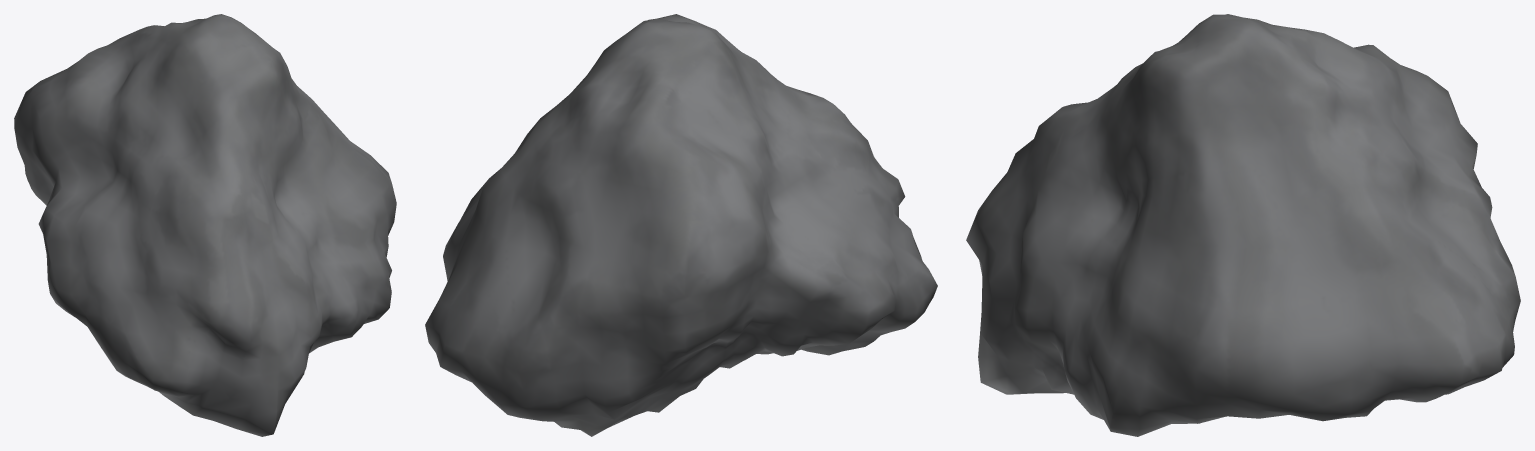
Rendered from 03_Rock1_01.fbx.
3 views of the same model, side by side, from view 1: azimuth 30°, elevation 25°; view 2: azimuth 150°, elevation 25°; view 3: azimuth 270°, elevation 25° (orthographic). The views are drawn at different scales.
Visible parts, largest first — view 1: Cube; view 2: Cube; view 3: Cube.
Part boxes in pixels (bbox=[...]): Cube: bbox=[14, 14, 396, 436]; Cube: bbox=[425, 14, 937, 436]; Cube: bbox=[966, 14, 1520, 436].
Bounding box in the file's own units: 37.08 × 34.38 × 42.91.
Materials: 1 (1 with a texture image).
